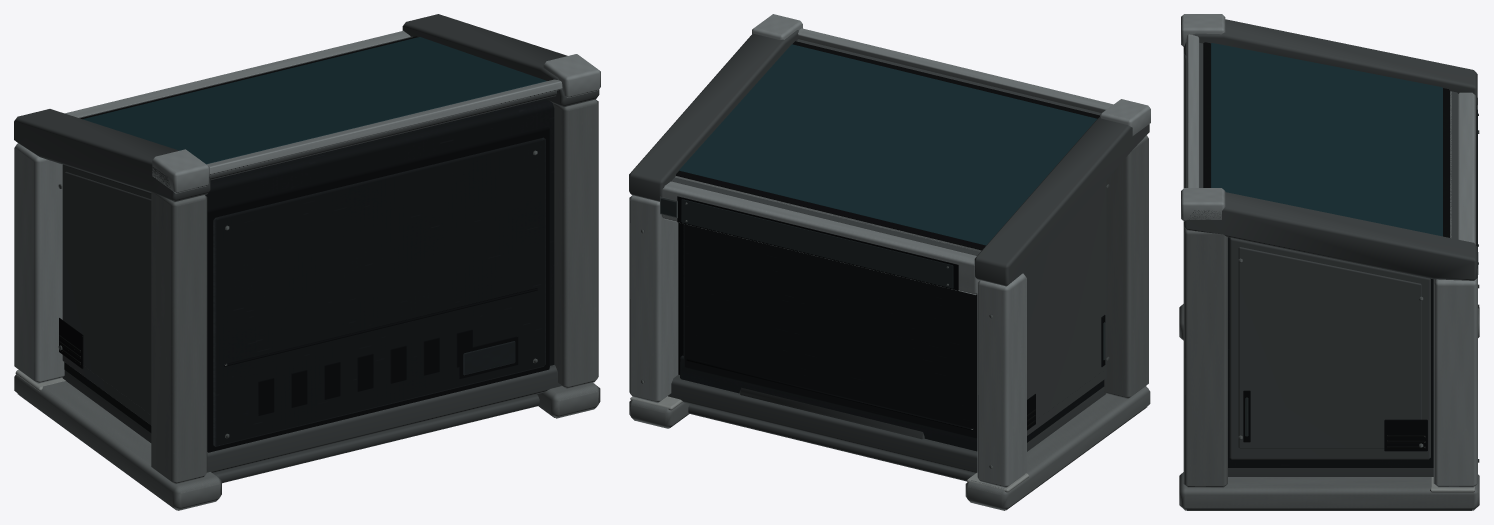
Rendered from TouchConsole_LOD1.fbx.
3 views of the same model, side by side, from view 1: azimuth 30°, elevation 25°; view 2: azimuth 150°, elevation 25°; view 3: azimuth 270°, elevation 25° (orthographic). The views are drawn at different scales.
Parts seen in each view (by area): view 1: ServicePanels, AlloyFrame, Chassis, TouchGlass; view 2: ServicePanels, AlloyFrame, TouchGlass, Chassis, FrontPlaque; view 3: AlloyFrame, ServicePanels, TouchGlass, Chassis.
Part boxes in pixels (box(x1,y1,x2,y2)): ServicePanels: box(59, 36, 549, 452); AlloyFrame: box(14, 14, 600, 510); Chassis: box(17, 36, 561, 510); TouchGlass: box(82, 37, 546, 164); ServicePanels: box(660, 41, 1106, 451); AlloyFrame: box(629, 14, 1150, 510); TouchGlass: box(679, 44, 1097, 245); Chassis: box(668, 39, 1147, 510); FrontPlaque: box(660, 198, 953, 288); AlloyFrame: box(1179, 14, 1479, 510); ServicePanels: box(1203, 42, 1476, 459); TouchGlass: box(1211, 43, 1442, 236); Chassis: box(1186, 43, 1472, 510).
Bounding box in the file's own units: 1.5 × 1.14 × 1.
